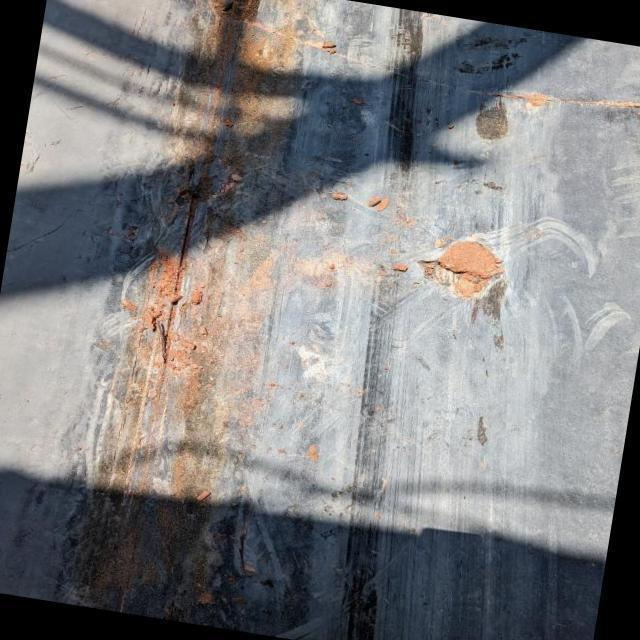Wear: (53, 0, 314, 613)
